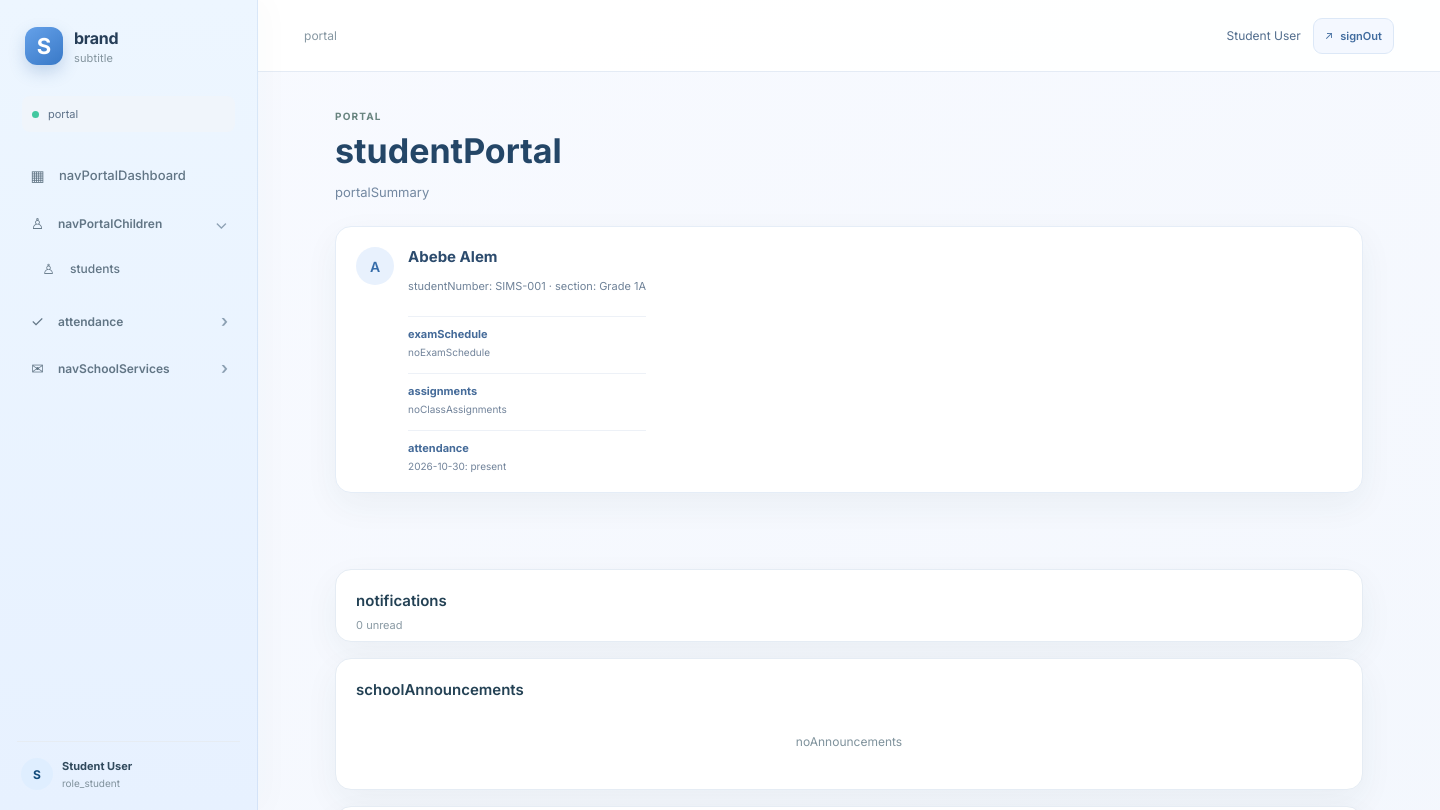
unauthenticated entry › shows student support and profile-request navigation without parent messaging
Click the button "✉ navSchoolServices ›". click: (128, 368)
box: [17, 347, 240, 389]
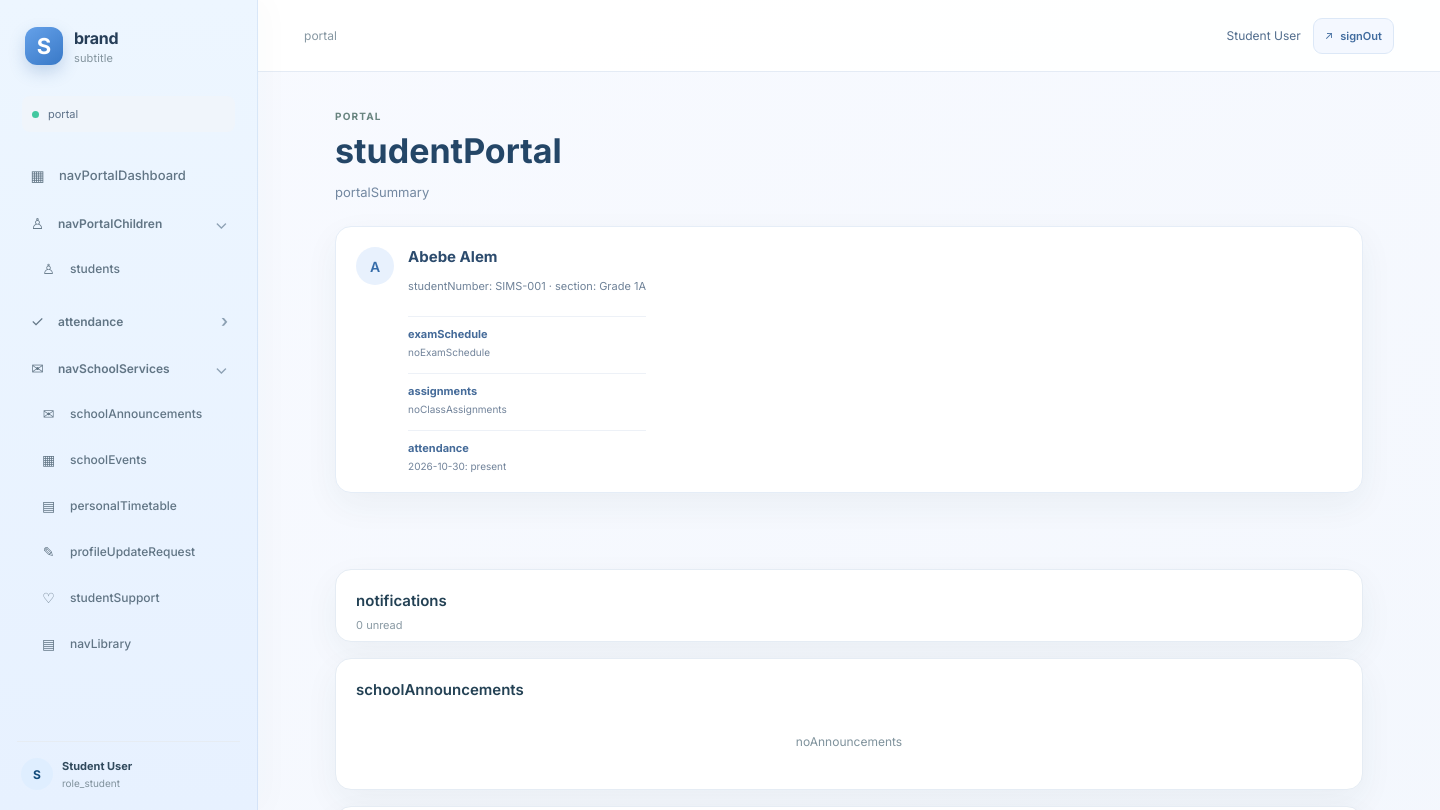
Expected: the link to "#portal-support" is shown, [42, 589, 160, 606]
